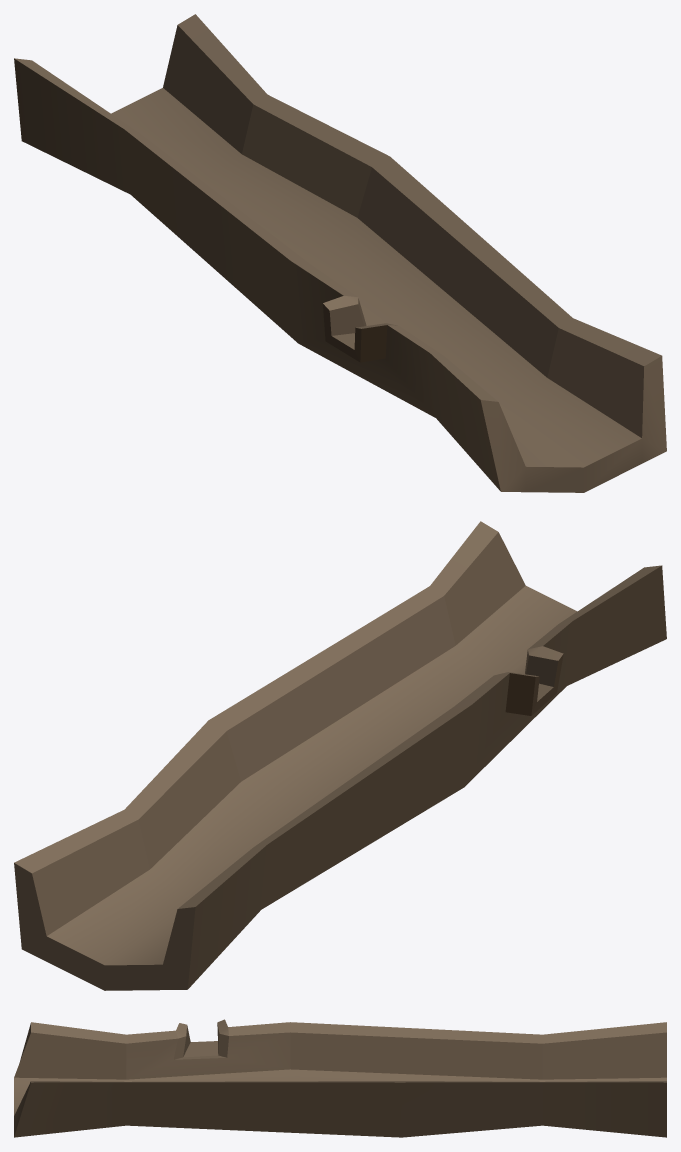
File: SF_Bld_Goblin_LogBridge_01.fbx
The picture shows the model from 3 angles, top to bottom: view 1: azimuth 30°, elevation 25°; view 2: azimuth 150°, elevation 25°; view 3: azimuth 270°, elevation 25°; orthographic projection. The views are drawn at different scales.
Parts seen in each view (by area): view 1: SF_Bld_Goblin_LogBridge_01; view 2: SF_Bld_Goblin_LogBridge_01; view 3: SF_Bld_Goblin_LogBridge_01.
Boxes of the visible parts, <box> form: SF_Bld_Goblin_LogBridge_01: <box>14,14,666,492</box>; SF_Bld_Goblin_LogBridge_01: <box>14,521,666,990</box>; SF_Bld_Goblin_LogBridge_01: <box>14,1019,666,1137</box>.
Size of the model in its own units: 5.04 by 2.59 by 21.21.
